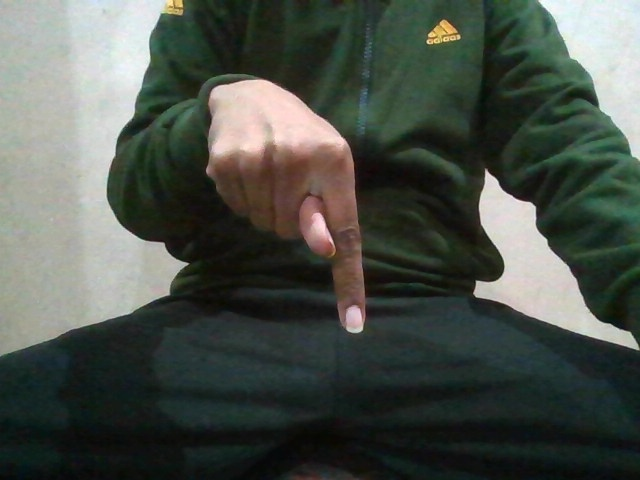Z: (210, 107, 377, 335)
